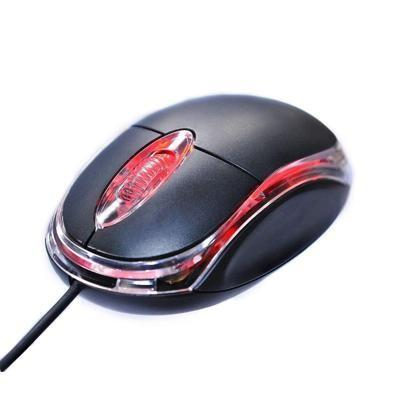not trash: (40, 93, 351, 314)
